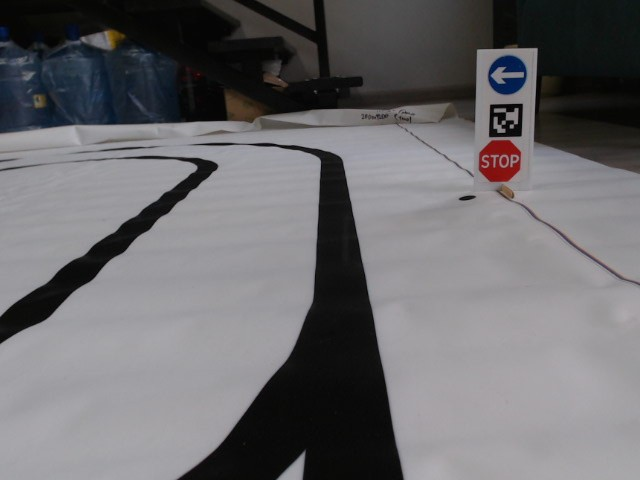Stop: (478, 138, 522, 181)
